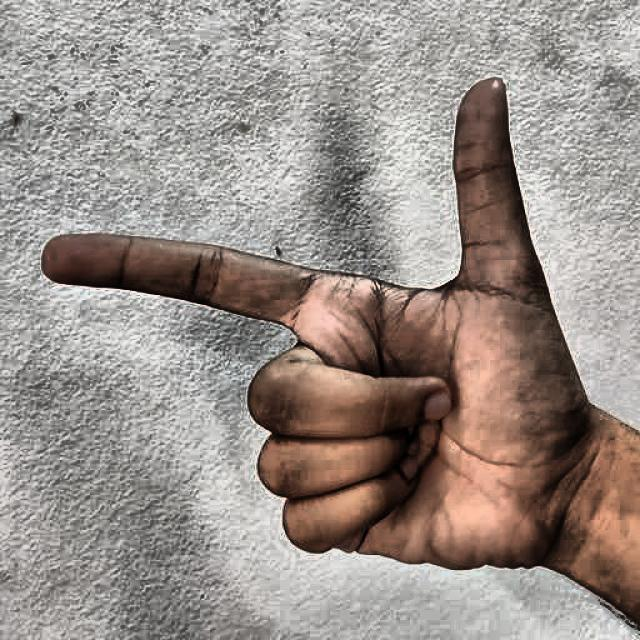Tha: (25, 61, 596, 614)
